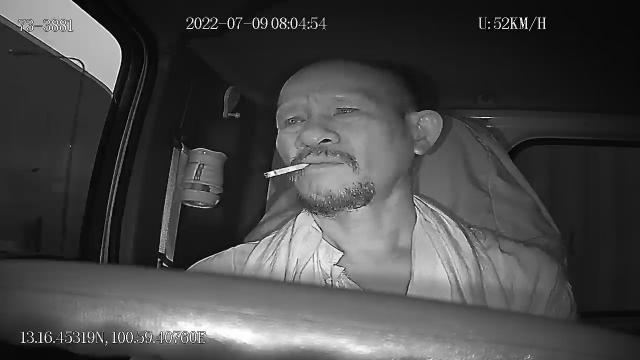SafeDriving: (328, 96, 368, 122), (277, 106, 312, 132)
Smoking: (263, 162, 311, 180)
